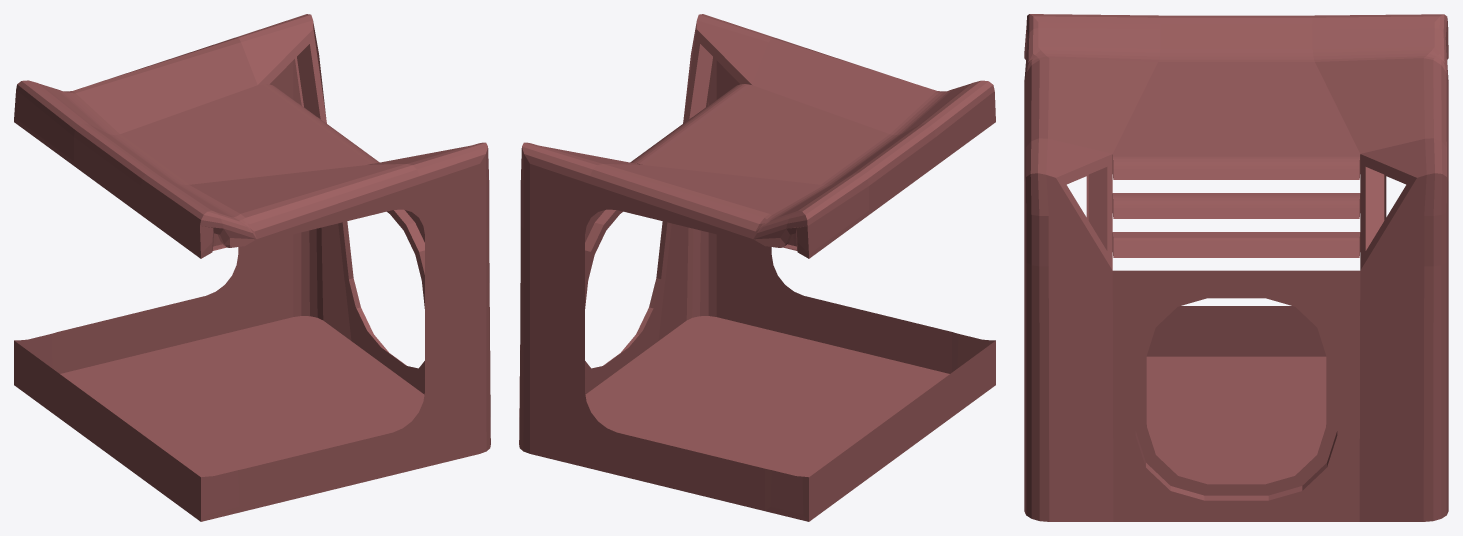
Rendered from baseLivingRoom.fbx.
The picture shows the model from 3 angles, left to right: view 1: azimuth 30°, elevation 25°; view 2: azimuth 150°, elevation 25°; view 3: azimuth 270°, elevation 25°; orthographic projection. The views are drawn at different scales.
Parts seen in each view (by area): view 1: Cube.002; view 2: Cube.002; view 3: Cube.002.
Part boxes in pixels (left/top/right/bottom): Cube.002: left=14, top=14, right=490, bottom=521; Cube.002: left=519, top=14, right=995, bottom=521; Cube.002: left=1024, top=14, right=1448, bottom=521.
Bounding box in the file's own units: 200 × 196 × 217.
